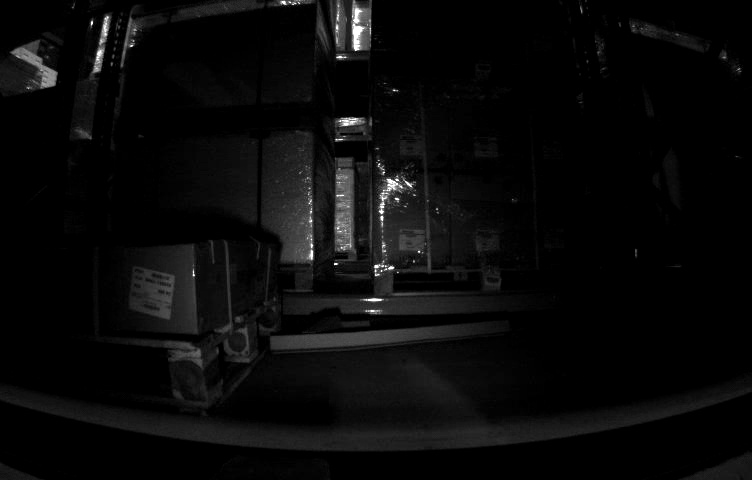True Barcode: (128, 264, 178, 322)
